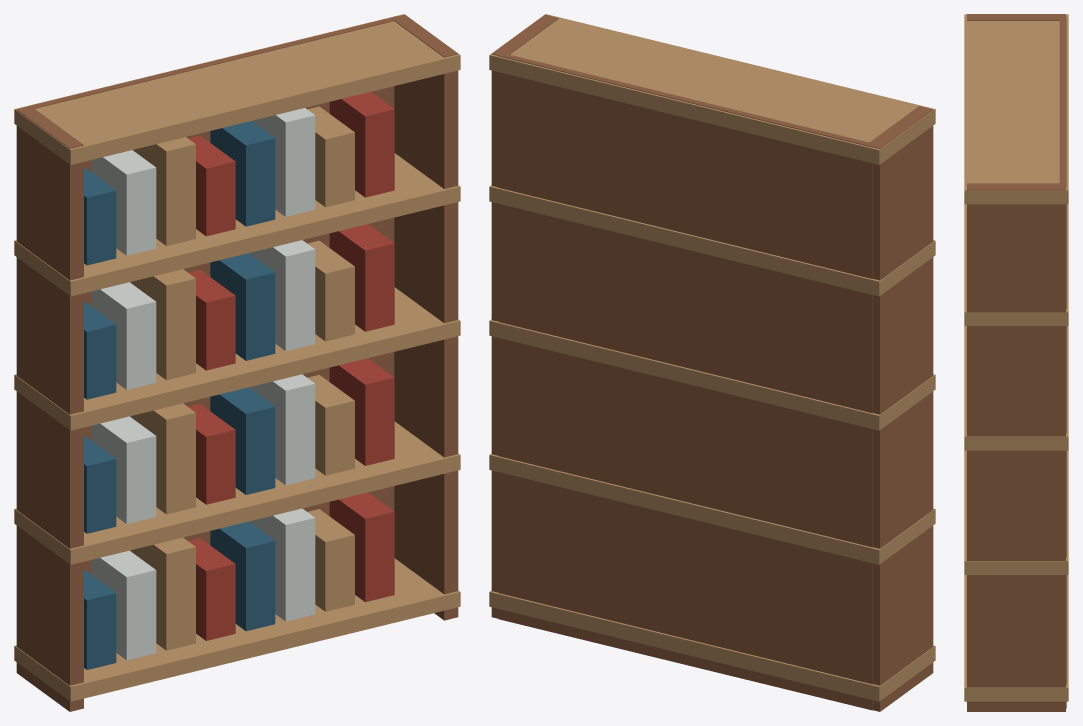
File: bookcase.glb
3 views of the same model, side by side, from view 1: azimuth 30°, elevation 25°; view 2: azimuth 150°, elevation 25°; view 3: azimuth 270°, elevation 25° (orthographic). The views are drawn at different scales.
Visible parts, largest first — view 1: bookcase; view 2: bookcase; view 3: bookcase.
Boxes of the visible parts, x1,y1,x2,y2 form: bookcase: (14,14,460,711); bookcase: (489,14,935,711); bookcase: (964,14,1068,711).
Bounding box in the file's own units: 1.52 × 2.1 × 0.38.
